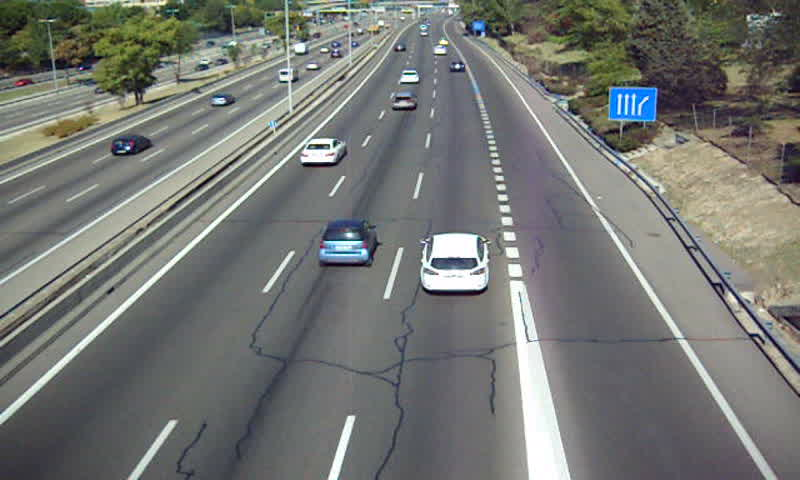car: (421, 234, 493, 293), (318, 220, 378, 265), (298, 138, 346, 167), (392, 91, 417, 112), (398, 70, 420, 85), (449, 60, 466, 72)
